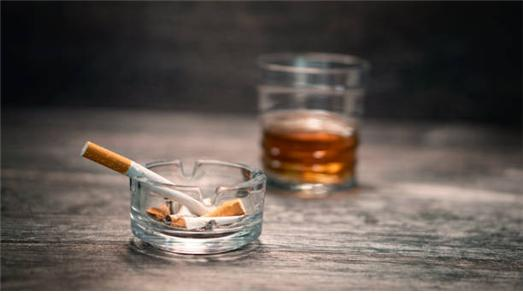alcohol: (257, 49, 372, 196)
cigarette: (80, 139, 246, 216), (145, 206, 239, 229)
